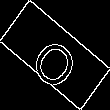O_NE: (25, 22, 85, 88)
